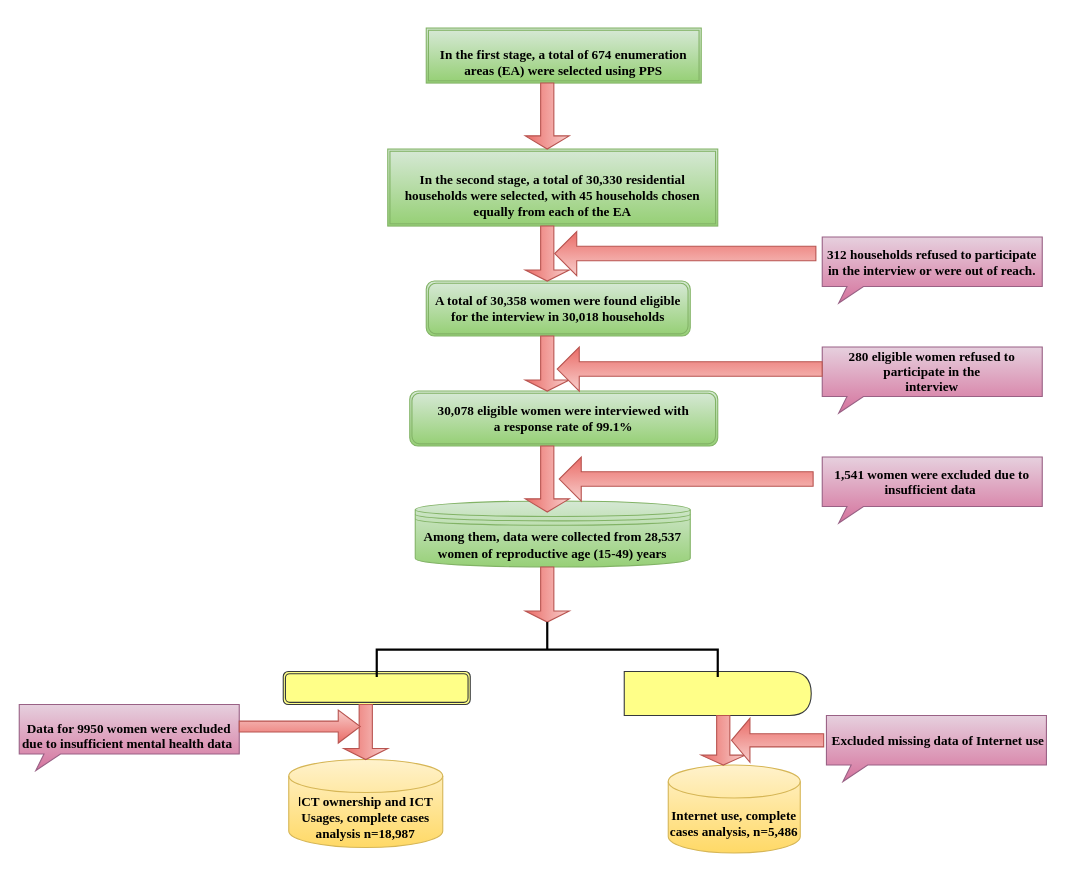
This 1066x872 diagram has some shape labels left out. The box of each missing label's shape, as (x1, y1, x2, y2) in pixels:
Exposure : Internet Use: (623, 670, 811, 716)
Exposures: ICT Analysis: (282, 670, 470, 705)
